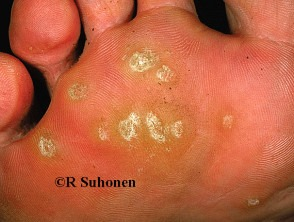Warts: (112, 103, 197, 152), (122, 44, 159, 74), (65, 75, 93, 108), (33, 131, 59, 163), (218, 106, 241, 136), (155, 59, 178, 88)
